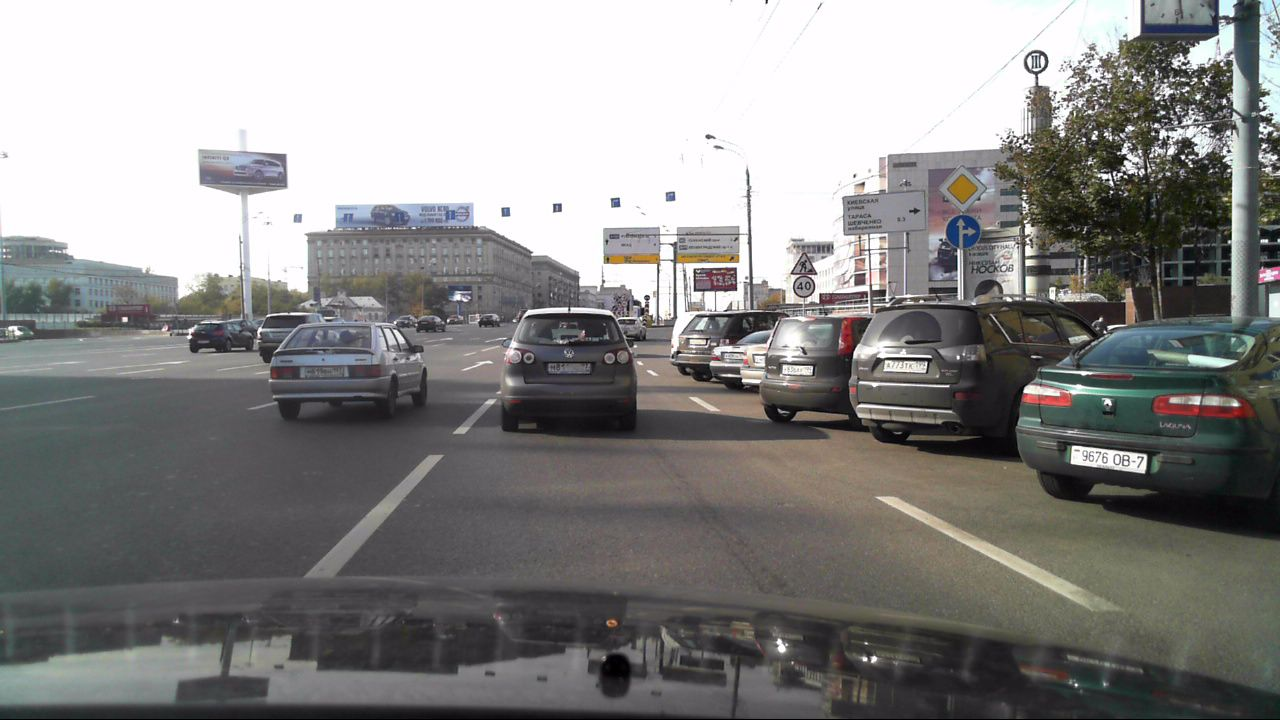speed_warning_40: (792, 276, 814, 298)
